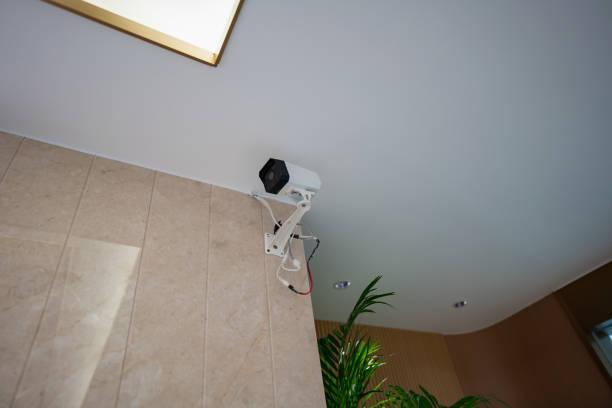camera: (252, 151, 324, 212)
